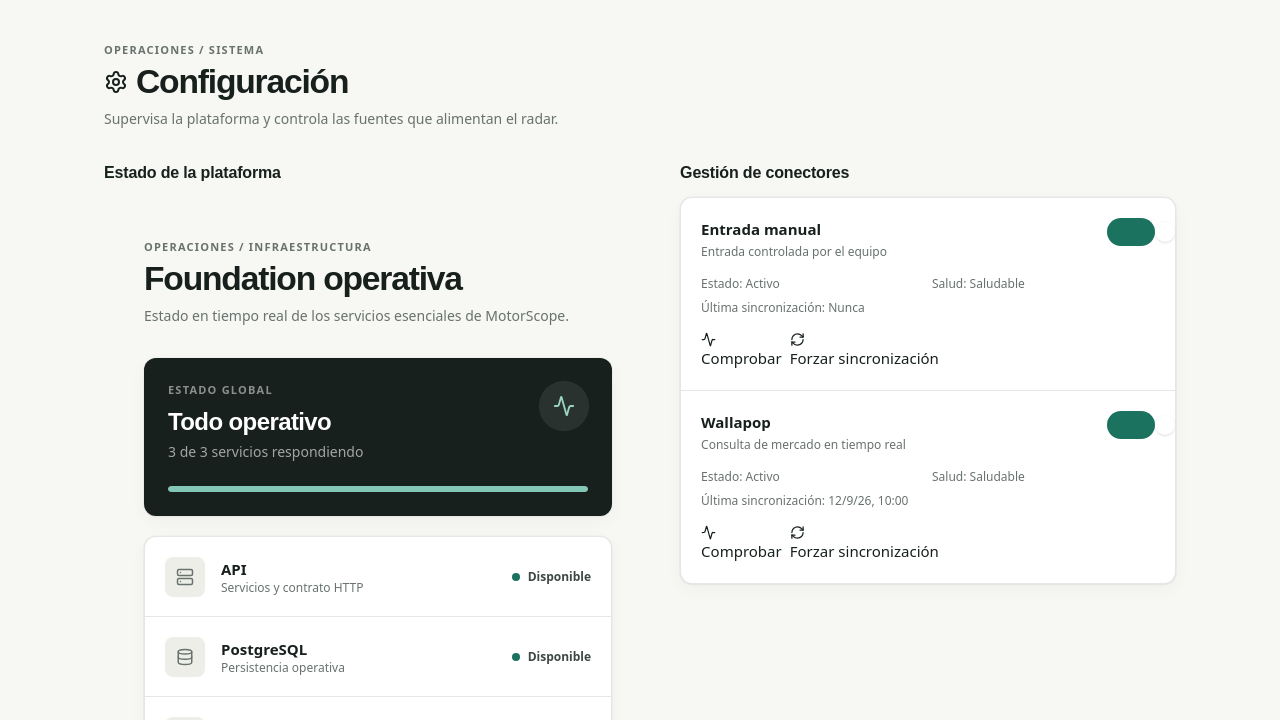
Test case: shows a pending state only on the connector being changed
This screenshot has width=1280, height=720.
Expected: the heading "Entrada manual" is shown, [701,219,821,239]
Click the switch named "Entrada manual" at (1131, 232), box [1107,218,1155,246]
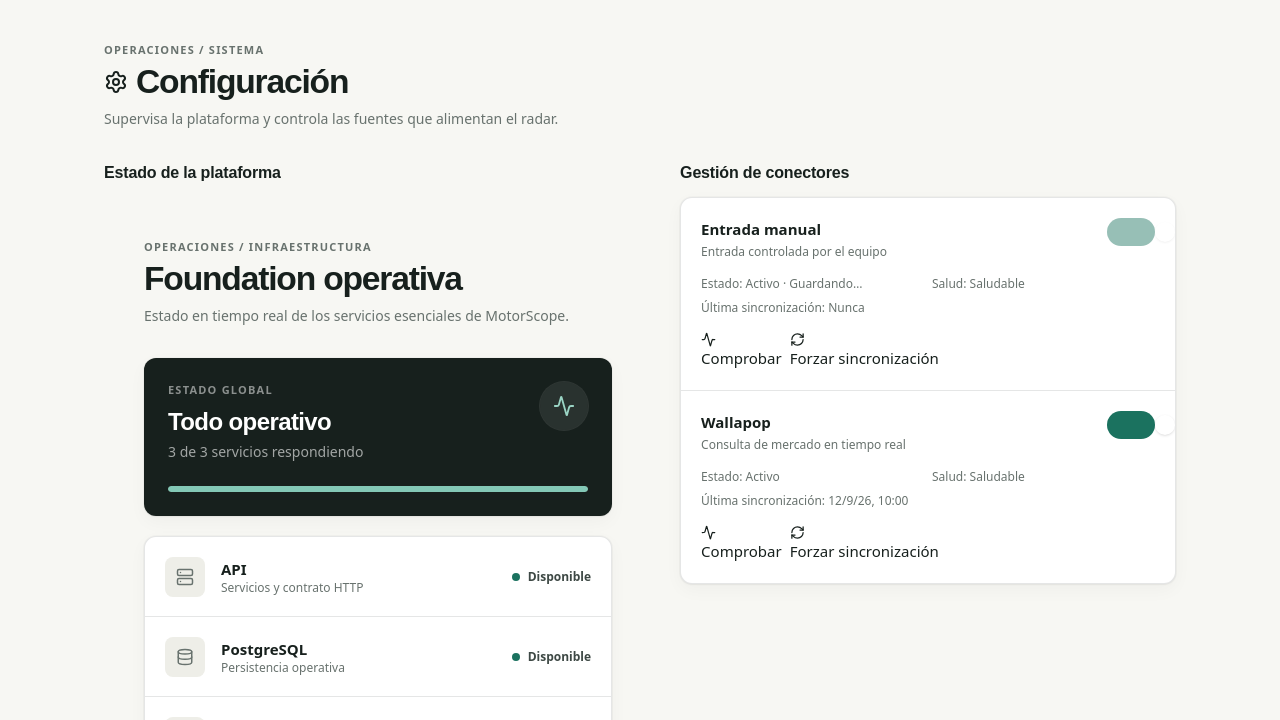
Expected: the switch named "Wallapop" is enabled, [1107,411,1155,439]
Expected: the switch named "Entrada manual" is disabled, [1107,218,1155,246]
Expected: the text "Estado: Activo · Guardando…" is shown, [701,276,862,292]
